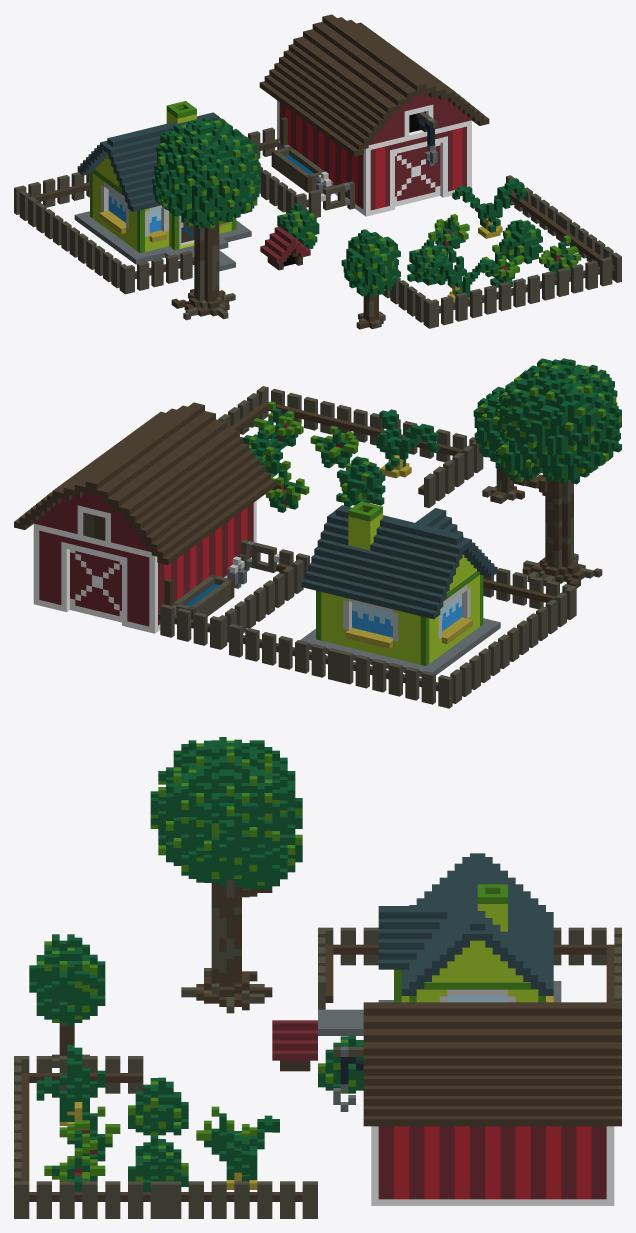
Rendered from farm_1_overtile.obj.
3 views of the same model, one above another, from view 1: azimuth 30°, elevation 25°; view 2: azimuth 150°, elevation 25°; view 3: azimuth 270°, elevation 25° (orthographic). The views are drawn at different scales.
Bounding box in the file's own units: 8 × 3.6 × 8.
1 material, 1 textured.
